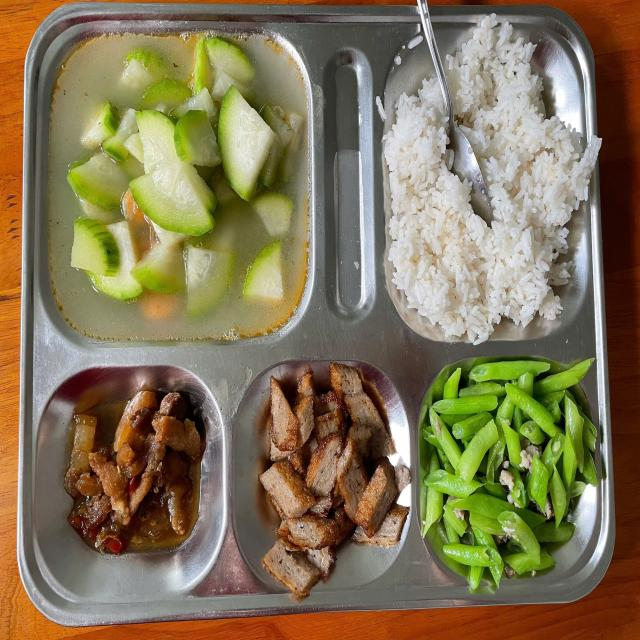canhbixanh: (47, 32, 307, 343)
chaca: (255, 369, 404, 586)
dauque: (424, 366, 606, 576)
salad: (387, 37, 592, 332)
teprim: (49, 383, 208, 558)
